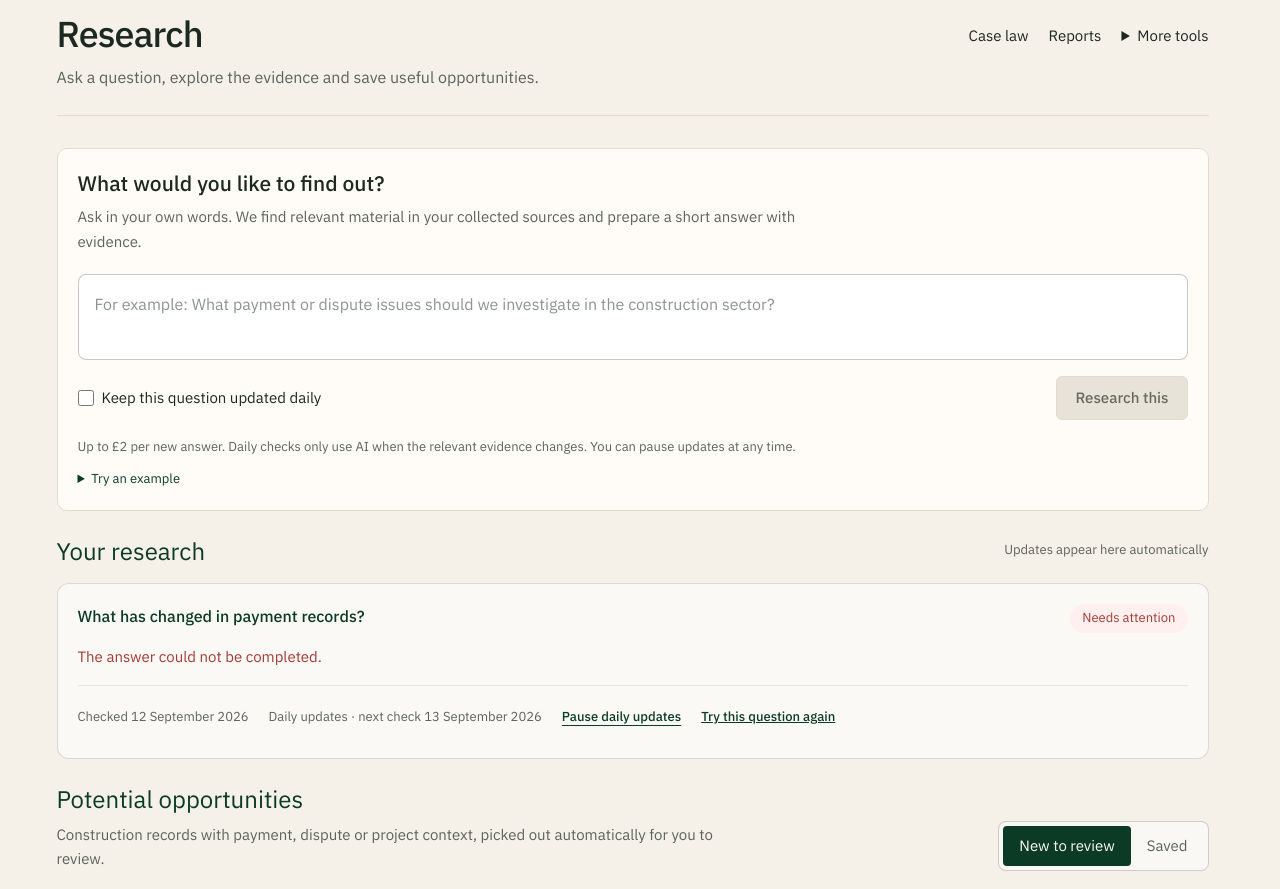
Test case: pauses a failed question's existing monitor before offering its replacement
Expected: the text "Needs attention" is shown, [1070,604,1188,633]
Click the button "Try this question again": (768, 718) [701,698,835,738]
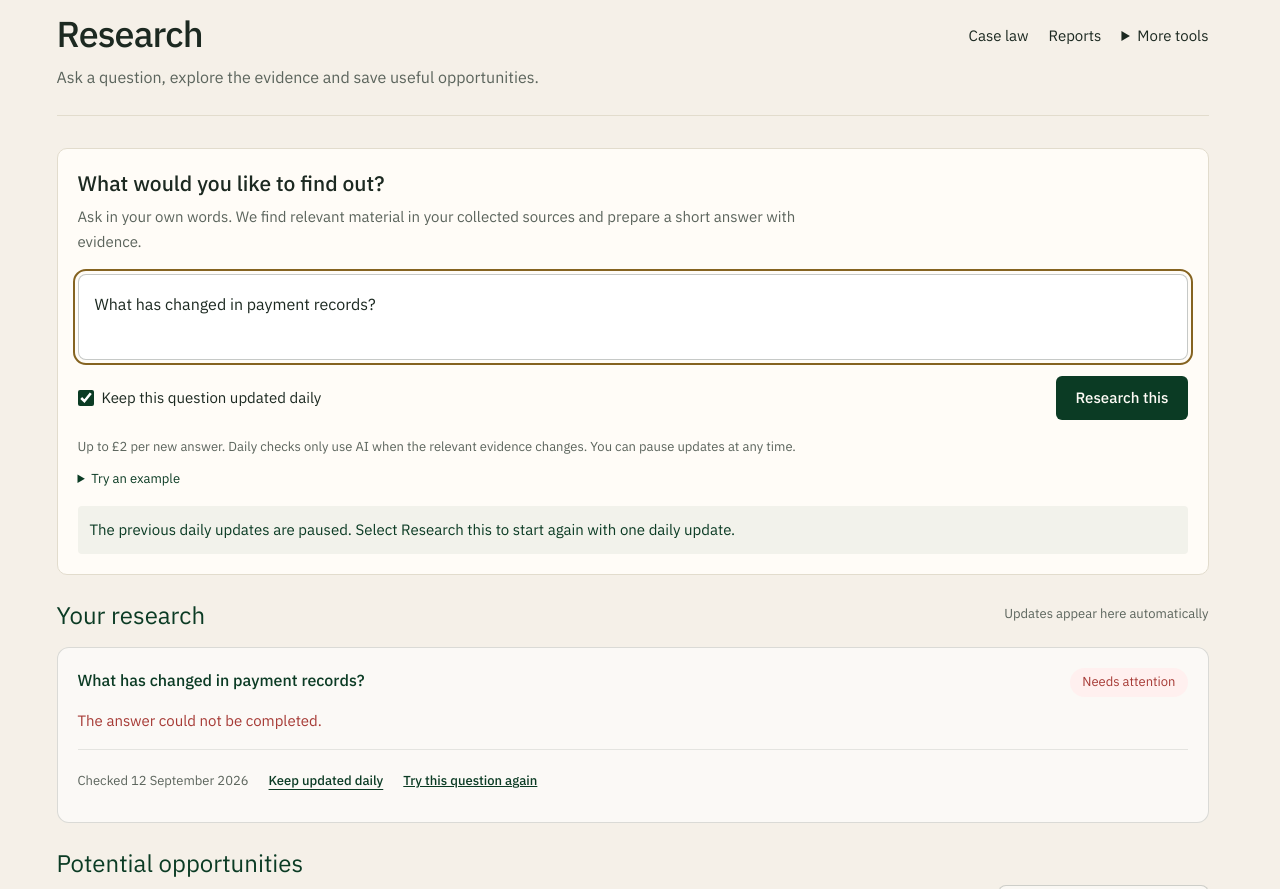
Expected: the text "The previous daily updates are paused" is shown, [90,520,735,539]
Expected: the text box holds "What has changed in payment records?", [78,274,1188,360]
Expected: the checkbox labelled "Keep this question updated daily" is checked, [78,390,94,406]
Click the button "Research this": (1122, 398) [1056,376,1188,420]
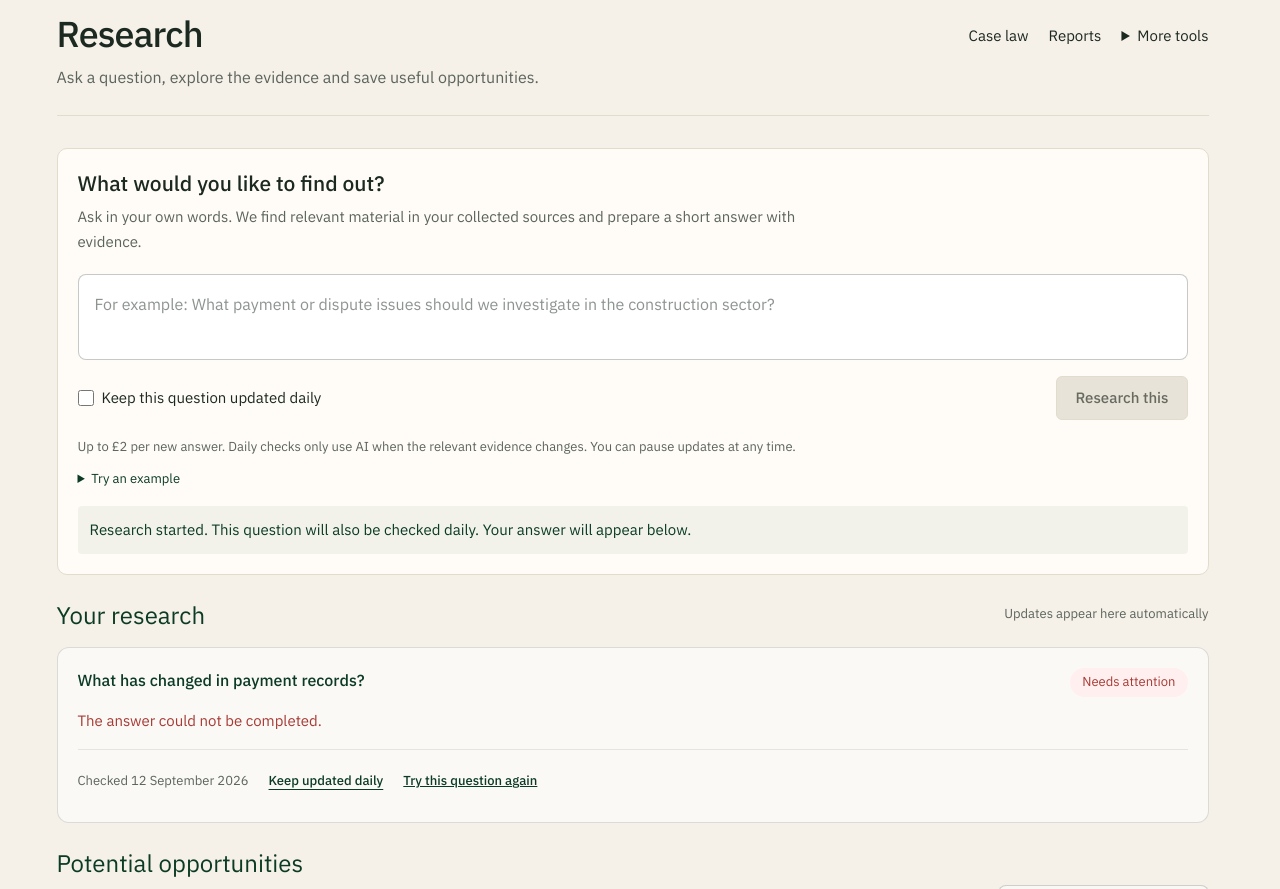
Expected: the text "Research started. This question will also be checked daily" is shown, [90,520,691,539]
